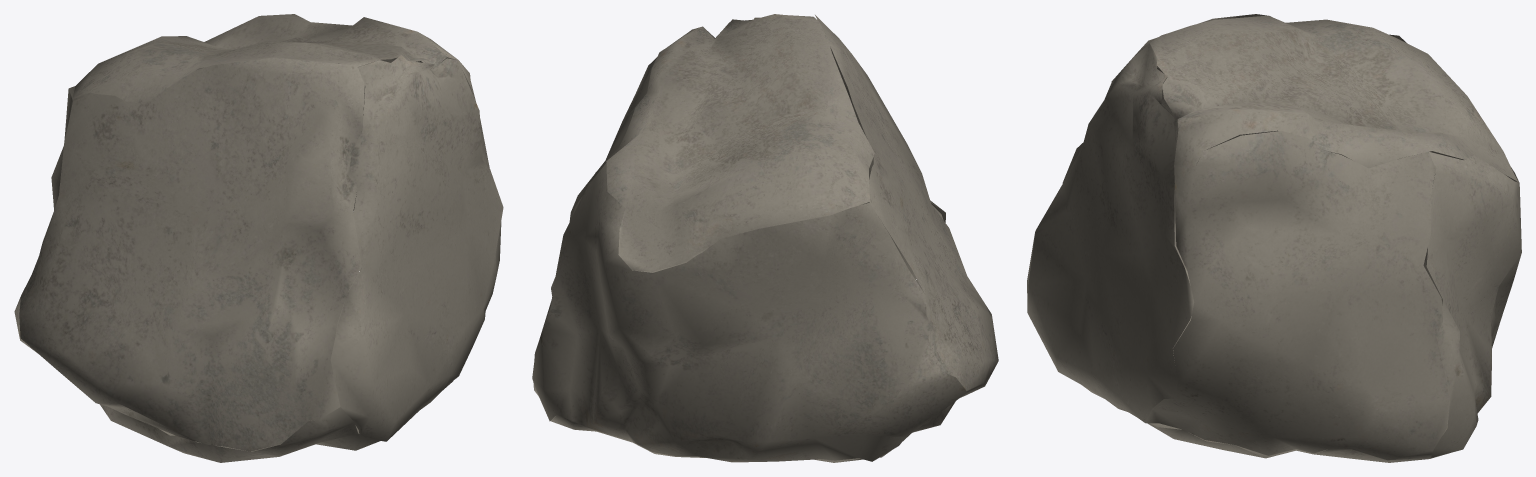
Rendered from ph-moon_rock_02.glb.
The picture shows the model from 3 angles, left to right: view 1: azimuth 30°, elevation 25°; view 2: azimuth 150°, elevation 25°; view 3: azimuth 270°, elevation 25°; orthographic projection. The views are drawn at different scales.
Parts seen in each view (by area): view 1: moon_rock_02; view 2: moon_rock_02; view 3: moon_rock_02.
Boxes of the visible parts, left/top/right/bottom form: moon_rock_02: left=14, top=14, right=503, bottom=462; moon_rock_02: left=532, top=14, right=998, bottom=462; moon_rock_02: left=1027, top=14, right=1521, bottom=462.
Size of the model in its own units: 0.2475 by 0.2026 by 0.2511.
1 material, 1 textured.
